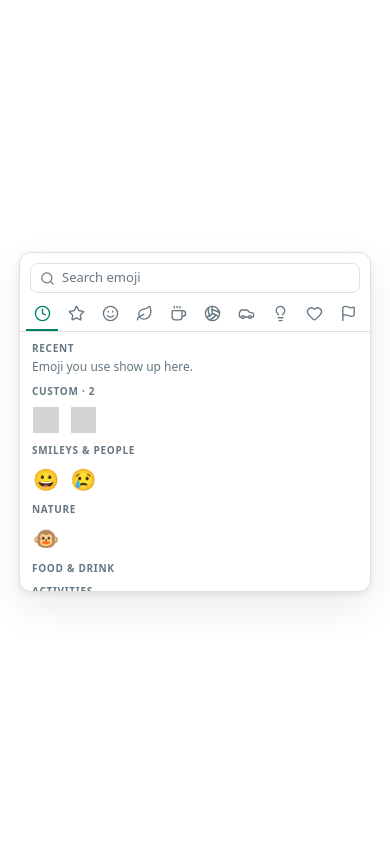
Test case: EmojiPicker › a row deleted by the other person closes its open card and confirmation
This screenshot has width=390, height=844.
Hover over the button named ":wipe_cry:" at (46, 420), box [28,402,64,438]
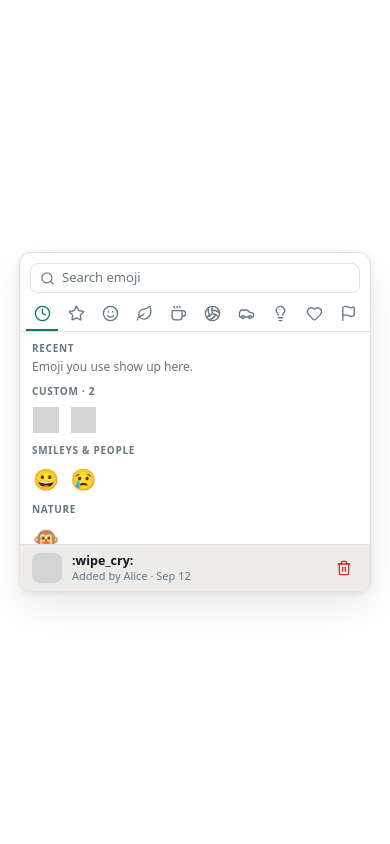
Click the button named "Delete :wipe_cry:" at (344, 568), box [330,554,358,582]
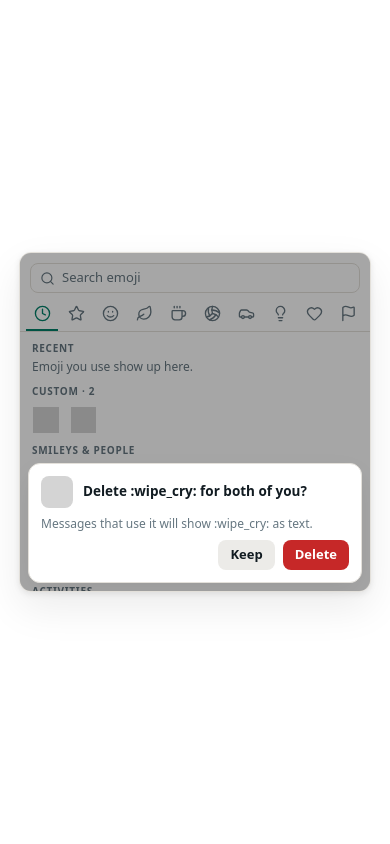
Now the dialog is shown, box [28,463,362,583]
